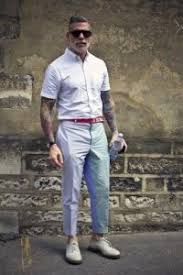F_belt: (56, 113, 111, 127)
F_shirt: (38, 54, 112, 122)
